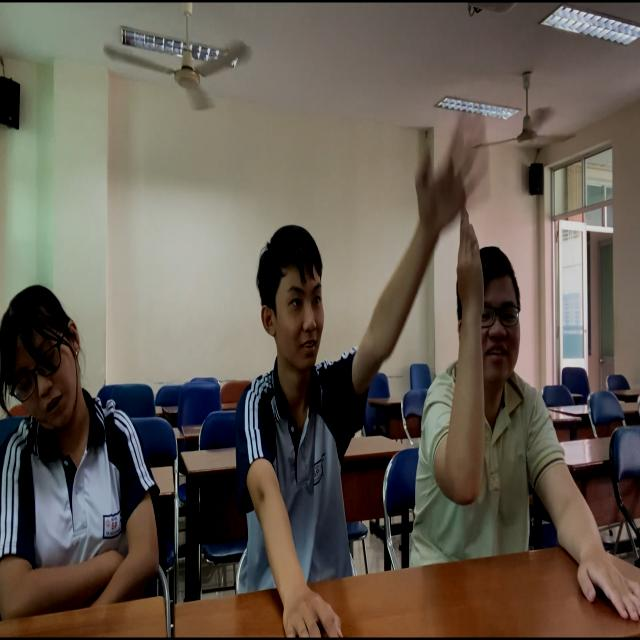raise_hand: (438, 203, 564, 566)
